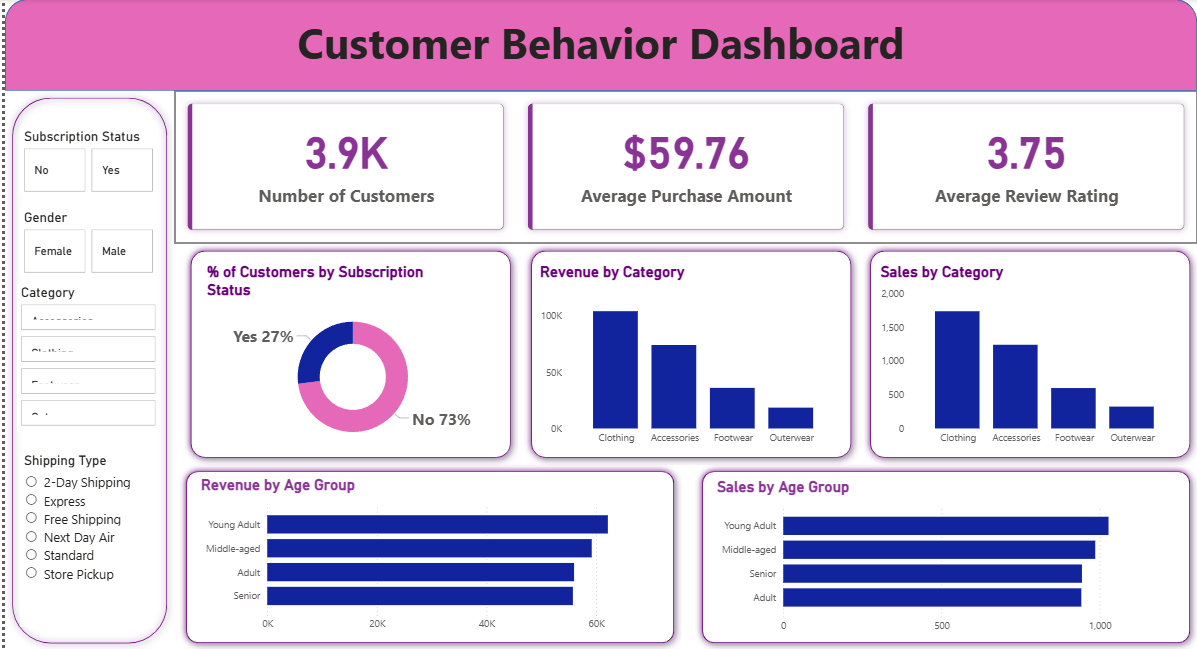

The page's visual inventory and layout, read from the dashboard file:
{"tool":"powerbi","page":{"name":"Page 1","canvas":[1500,820],"ordinal":0},"visuals":[{"type":"cardVisual","fields":{"Data":["public customer.Number of Customers","public customer.Average Purchase Amount","public customer.Average Review Rating"]},"box":[212.9,115.3,1286.5,191.6],"z":2000},{"type":"shape","box":[218.3,585.6,631.7,234.2],"z":2500,"group":"g1"},{"type":"shape","box":[0,0,1499.4,115.3],"z":3000},{"type":"textbox","box":[0,12.4,1499.4,102.9],"z":4000},{"type":"shape","box":[225.4,307,420.5,278.6],"z":5000},{"type":"donutChart","title":"% of Customers by Subscription Status","fields":{"Category":["public customer.subscription_status"],"Y":["CountNonNull(public customer.customer_id)"]},"box":[248.4,331.8,376.2,237.8],"z":6000},{"type":"shape","box":[1078.9,307,420.5,278.6],"z":7000},{"type":"shape","box":[652.1,307,420.5,278.6],"z":8000},{"type":"clusteredColumnChart","title":"Revenue by Category","fields":{"Y":["Sum(public customer.purchase_amount)"],"Category":["public customer.category"]},"box":[667.2,331.8,385.1,237.8],"z":9000},{"type":"clusteredColumnChart","title":"Sales by Category","fields":{"Y":["CountNonNull(public customer.customer_id)"],"Category":["public customer.category"]},"box":[1096.6,331.8,385.1,237.8],"z":10000},{"type":"shape","box":[0,115.3,212.9,704.5],"z":11000},{"type":"advancedSlicerVisual","fields":{"Values":["public customer.subscription_status"]},"box":[19.5,161.5,173.9,85.2],"z":12000},{"type":"advancedSlicerVisual","fields":{"Values":["public customer.gender"]},"box":[19.5,264.4,173.9,85.2],"z":13000},{"type":"advancedSlicerVisual","fields":{"Values":["public customer.category"]},"box":[14.2,358.4,179.2,186.3],"z":14000},{"type":"listSlicer","fields":{"Values":["public customer.shipping_type"]},"box":[19.5,569.6,168.6,220],"z":15000},{"type":"shape","box":[867.7,585.6,631.7,234.2],"z":16000},{"type":"clusteredBarChart","title":"Sales by Age Group","fields":{"Y":["CountNonNull(public customer.customer_id)"],"Category":["public customer.age_group"]},"box":[890.8,601.5,585.6,204.1],"z":17000},{"type":"clusteredBarChart","title":"Revenue by Age Group","fields":{"Y":["Sum(public customer.purchase_amount)"],"Category":["public customer.age_group"]},"box":[241.4,601.6,585.6,204.1],"z":17500,"group":"g1"},{"type":"group","id":"g1","title":"Group 1","box":[218.3,585.6,631.7,234.2],"z":17501}]}

Visuals, with their boxes in screenshot pixels (x1, y1, x2, y2), scaled from the page's 1500x820 canvas onto the 1197x649 screenshot:
cardVisual - public customer.Number of Customers x public customer.Average Purchase Amount: x1=170 y1=91 x2=1196 y2=243
shape: x1=174 y1=463 x2=678 y2=648
shape: x1=0 y1=0 x2=1196 y2=91
textbox: x1=0 y1=10 x2=1196 y2=91
shape: x1=180 y1=243 x2=515 y2=463
"% of Customers by Subscription Status" donutChart: x1=198 y1=263 x2=498 y2=451
shape: x1=861 y1=243 x2=1196 y2=463
shape: x1=520 y1=243 x2=856 y2=463
"Revenue by Category" clusteredColumnChart: x1=532 y1=263 x2=840 y2=451
"Sales by Category" clusteredColumnChart: x1=875 y1=263 x2=1182 y2=451
shape: x1=0 y1=91 x2=170 y2=648
advancedSlicerVisual - public customer.subscription_status: x1=16 y1=128 x2=154 y2=195
advancedSlicerVisual - public customer.gender: x1=16 y1=209 x2=154 y2=277
advancedSlicerVisual - public customer.category: x1=11 y1=284 x2=154 y2=431
listSlicer - public customer.shipping_type: x1=16 y1=451 x2=150 y2=625
shape: x1=692 y1=463 x2=1196 y2=648
"Sales by Age Group" clusteredBarChart: x1=711 y1=476 x2=1178 y2=638
"Revenue by Age Group" clusteredBarChart: x1=193 y1=476 x2=660 y2=638
"Group 1" group: x1=174 y1=463 x2=678 y2=648
